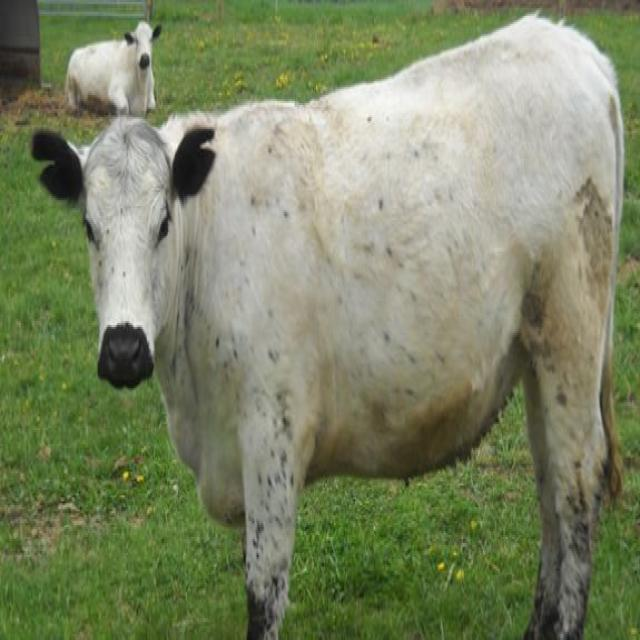cowFace: (27, 109, 228, 422), (112, 18, 174, 83)
